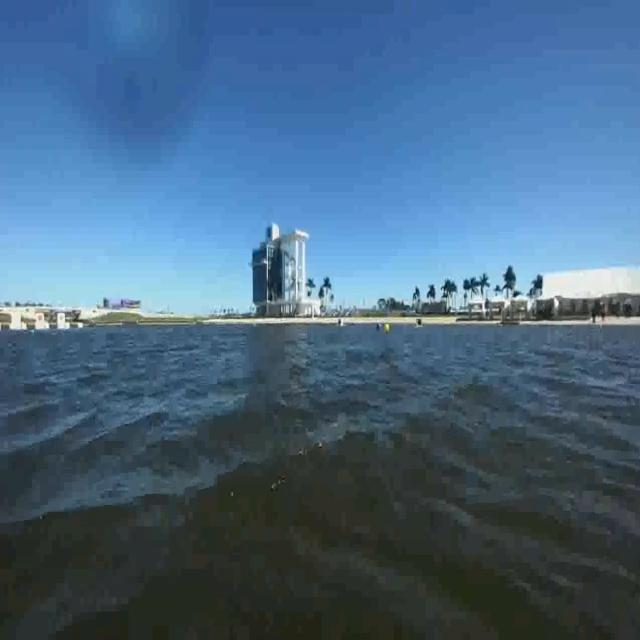yellow-buoy: (384, 321, 391, 334)
